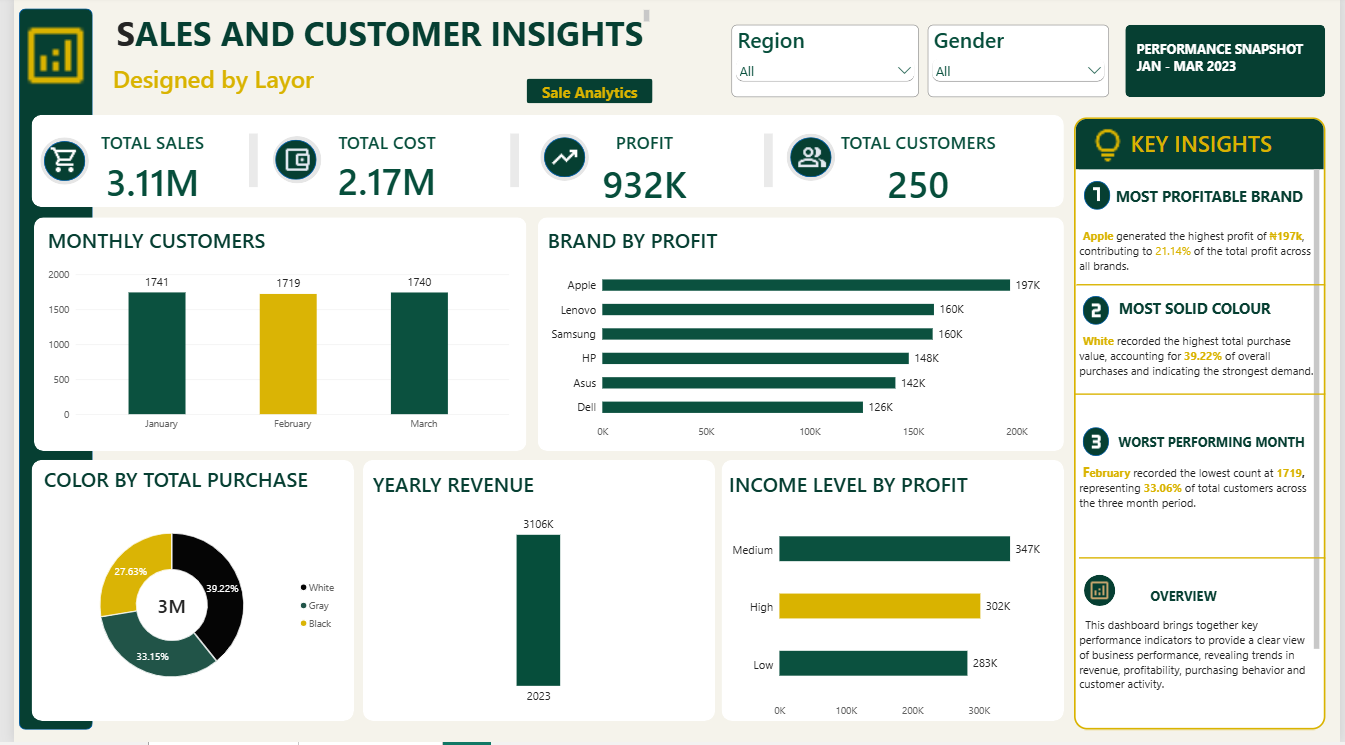

Layout of this report page (visuals, bound fields, positions):
{"tool":"powerbi","page":{"name":"Sale Analytics","canvas":[1920,1080],"ordinal":1},"visuals":[{"type":"actionButton","box":[742,119.4,182.8,36.2],"z":0},{"type":"textbox","title":"KEY INSIGHTS","box":[1534.6,175.5,363.7,886.7],"z":1000},{"type":"shape","box":[1547.3,434.3,38,41.6],"z":2000},{"type":"shape","box":[504.9,671.4,510.3,378.2],"z":3000},{"type":"shape","box":[758.2,320.3,761.9,338.4],"z":4000},{"type":"clusteredBarChart","title":"BRAND BY PROFIT","fields":{"Category":["Products.Brand"],"Y":["Sales.Profit"]},"box":[772.7,333,729.3,313.1],"z":5000},{"type":"textbox","title":"Designed by Layor ","box":[143,95.9,423.5,52.5],"z":6000},{"type":"slicer","fields":{"Values":["Customers.Region"]},"box":[1038.7,41.6,271.4,105],"z":7000},{"type":"slicer","fields":{"Values":["Customers.Gender"]},"box":[1322.9,41.6,262.4,105],"z":8000},{"type":"shape","box":[7.2,18.1,106.8,1044.2],"z":9000},{"type":"shape","box":[25.3,171.9,1494.8,133.9],"z":10000},{"type":"cardVisual","title":"TOTAL SALES","fields":{"Data":["Sales.Total Sales(rev)"]},"box":[61.5,193.6,278.7,110.4],"z":11000},{"type":"cardVisual","title":"TOTAL COST","fields":{"Data":["Sales.Total COGS"]},"box":[363.7,193.6,352.9,108.6],"z":12000},{"type":"cardVisual","title":"PROFIT","fields":{"Data":["Sales.Profit"]},"box":[761.9,193.6,302.2,115.8],"z":13000},{"type":"cardVisual","title":"TOTAL CUSTOMERS","fields":{"Data":["Sales.Total Customers"]},"box":[1163.6,193.6,291.4,115.8],"z":14000},{"type":"columnChart","title":"YEARLY REVENUE","fields":{"Category":["Sales.SaleDate.Variation.Date Hierarchy.Year"],"Y":["Sales.Total Sales(rev)"]},"box":[519.4,685.9,479.6,343.8],"z":15000},{"type":"shape","box":[25.3,671.4,466.9,378.2],"z":16000},{"type":"donutChart","title":" COLOR BY TOTAL PURCHASE","fields":{"Category":["Products.Color"],"Y":["Sales.Total Sales(rev)"]},"box":[43.4,678.6,428.9,351.1],"z":17000},{"type":"shape","box":[1024.3,671.4,495.8,378.2],"z":18000},{"type":"clusteredBarChart","title":"INCOME LEVEL BY PROFIT","fields":{"Category":["Customers.IncomeLevel"],"Y":["Sales.Profit"]},"box":[1035.1,685.9,466.9,363.7],"z":19000},{"type":"shape","box":[340.2,199.1,12.7,77.8],"z":20000},{"type":"shape","box":[38,204.5,70.6,68.8],"z":21000},{"type":"shape","box":[43.4,209.9,59.7,57.9],"z":22000},{"type":"shape","box":[374.6,202.7,70.6,68.8],"z":23000},{"type":"shape","box":[378.2,208.1,59.7,57.9],"z":24000},{"type":"shape","box":[761.9,199.1,70.6,68.8],"z":25000},{"type":"shape","box":[767.3,204.5,59.7,57.9],"z":26000},{"type":"shape","box":[1118.4,199.1,70.6,68.8],"z":27000},{"type":"shape","box":[1123.8,204.5,59.7,57.9],"z":28000},{"type":"shape","box":[718.4,199.1,12.7,77.8],"z":29000},{"type":"shape","box":[1085.8,199.1,12.7,77.8],"z":30000},{"type":"image","box":[48.9,215.3,48.9,43.4],"z":31000},{"type":"image","box":[385.5,215.3,48.9,43.4],"z":32000},{"type":"image","box":[772.7,211.7,48.9,43.4],"z":33000},{"type":"image","box":[1131,211.7,48.9,43.4],"z":34000},{"type":"image","box":[7.2,25.3,106.8,121.2],"z":35000},{"type":"shape","box":[1549.1,267.8,38,41.6],"z":36000},{"type":"image","box":[1549.1,269.6,38,34.4],"z":37000},{"type":"textbox","title":"KEY INSIGHTS","box":[143,7.2,781.8,68.8],"z":38000},{"type":"shape","box":[1608.8,41.6,289.5,105],"z":39000},{"type":"textbox","box":[1625.1,63.3,258.8,59.7],"z":40000},{"type":"shape","box":[1538.2,398.1,360.1,39.8],"z":41000},{"type":"image","box":[1547.3,437.9,38,34.4],"z":42000},{"type":"shape","box":[1534.6,557.4,363.7,38],"z":43000},{"type":"shape","box":[1547.3,624.3,38,41.6],"z":44000},{"type":"image","box":[1547.3,628,38,34.4],"z":45000},{"type":"shape","box":[1541.8,785.4,356.5,56.1],"z":46000},{"type":"shape","box":[1549.1,837.9,45.2,45.2],"z":47000},{"type":"image","box":[1541.8,188.2,83.2,56.1],"z":48000},{"type":"image","box":[1552.7,843.3,38,34.4],"z":49000},{"type":"shape","box":[29,320.3,713,338.4],"z":50000},{"type":"clusteredColumnChart","title":"MONTHLY CUSTOMERS","fields":{"Category":["Sales.SaleDate.Variation.Date Hierarchy.Month"],"Y":["Sales.Total Order"]},"box":[48.9,333,667.8,300.4],"z":51000},{"type":"textbox","box":[742,124.9,182.8,30.8],"z":52000}]}

Visuals, with their boxes in screenshot pixels (x1, y1, x2, y2), scaled from the page's 1920x1080 canvas onto the 1345x745 screenshot:
actionButton: left=520, top=82, right=648, bottom=107
"KEY INSIGHTS" textbox: left=1075, top=121, right=1330, bottom=733
shape: left=1084, top=300, right=1111, bottom=328
shape: left=354, top=463, right=711, bottom=724
shape: left=531, top=221, right=1065, bottom=454
"BRAND BY PROFIT" clusteredBarChart: left=541, top=230, right=1052, bottom=446
"Designed by Layor " textbox: left=100, top=66, right=397, bottom=102
slicer - Customers.Region: left=728, top=29, right=918, bottom=101
slicer - Customers.Gender: left=927, top=29, right=1111, bottom=101
shape: left=5, top=12, right=80, bottom=733
shape: left=18, top=119, right=1065, bottom=211
"TOTAL SALES" cardVisual: left=43, top=134, right=238, bottom=210
"TOTAL COST" cardVisual: left=255, top=134, right=502, bottom=208
"PROFIT" cardVisual: left=534, top=134, right=745, bottom=213
"TOTAL CUSTOMERS" cardVisual: left=815, top=134, right=1019, bottom=213
"YEARLY REVENUE" columnChart: left=364, top=473, right=700, bottom=710
shape: left=18, top=463, right=345, bottom=724
" COLOR BY TOTAL PURCHASE" donutChart: left=30, top=468, right=331, bottom=710
shape: left=718, top=463, right=1065, bottom=724
"INCOME LEVEL BY PROFIT" clusteredBarChart: left=725, top=473, right=1052, bottom=724
shape: left=238, top=137, right=247, bottom=191
shape: left=27, top=141, right=76, bottom=189
shape: left=30, top=145, right=72, bottom=185
shape: left=262, top=140, right=312, bottom=187
shape: left=265, top=144, right=307, bottom=183
shape: left=534, top=137, right=583, bottom=185
shape: left=538, top=141, right=579, bottom=181
shape: left=783, top=137, right=833, bottom=185
shape: left=787, top=141, right=829, bottom=181
shape: left=503, top=137, right=512, bottom=191
shape: left=761, top=137, right=770, bottom=191
image: left=34, top=149, right=69, bottom=178
image: left=270, top=149, right=304, bottom=178
image: left=541, top=146, right=576, bottom=176
image: left=792, top=146, right=827, bottom=176
image: left=5, top=17, right=80, bottom=101
shape: left=1085, top=185, right=1112, bottom=213
image: left=1085, top=186, right=1112, bottom=210
"KEY INSIGHTS" textbox: left=100, top=5, right=648, bottom=52
shape: left=1127, top=29, right=1330, bottom=101
textbox: left=1138, top=44, right=1320, bottom=85
shape: left=1078, top=275, right=1330, bottom=302
image: left=1084, top=302, right=1111, bottom=326
shape: left=1075, top=385, right=1330, bottom=411
shape: left=1084, top=431, right=1111, bottom=459
image: left=1084, top=433, right=1111, bottom=457
shape: left=1080, top=542, right=1330, bottom=580
shape: left=1085, top=578, right=1117, bottom=609
image: left=1080, top=130, right=1138, bottom=169
image: left=1088, top=582, right=1114, bottom=605
shape: left=20, top=221, right=520, bottom=454
"MONTHLY CUSTOMERS" clusteredColumnChart: left=34, top=230, right=502, bottom=437
textbox: left=520, top=86, right=648, bottom=107
